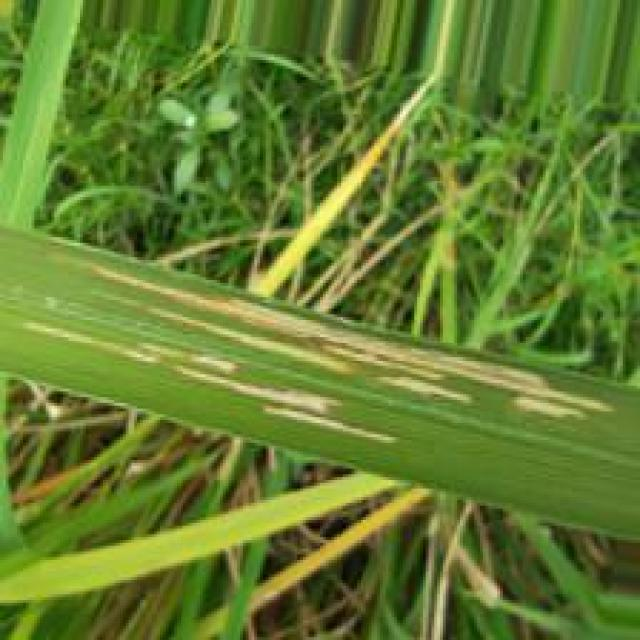Rice_Hispa: (92, 275, 614, 418), (18, 324, 226, 373), (186, 372, 329, 413), (373, 375, 477, 399)
